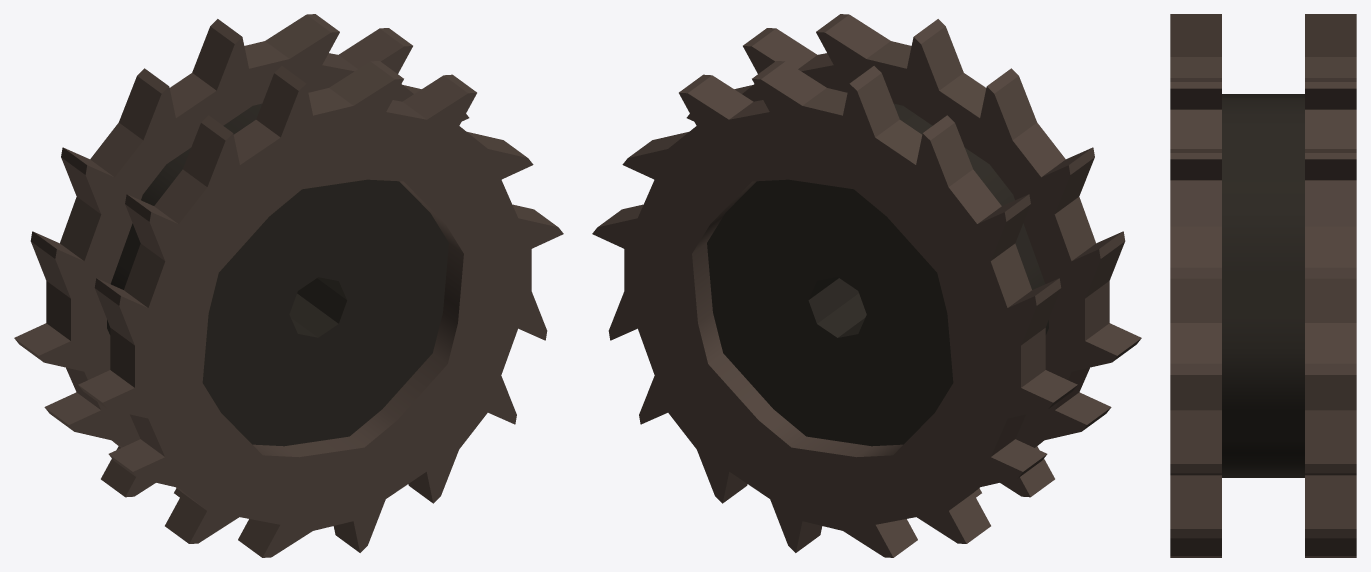
The model's file is gear02.fbx.
The picture shows the model from 3 angles, left to right: view 1: azimuth 30°, elevation 25°; view 2: azimuth 150°, elevation 25°; view 3: azimuth 270°, elevation 25°; orthographic projection. The views are drawn at different scales.
Parts seen in each view (by area): view 1: pCylinder9; view 2: pCylinder9; view 3: pCylinder9.
Boxes of the visible parts, x1=… form: pCylinder9: x1=14, y1=14, x2=563, y2=557; pCylinder9: x1=592, y1=14, x2=1141, y2=557; pCylinder9: x1=1170, y1=14, x2=1356, y2=557.
Bounding box in the file's own units: 2.73 × 2.73 × 0.9079.
